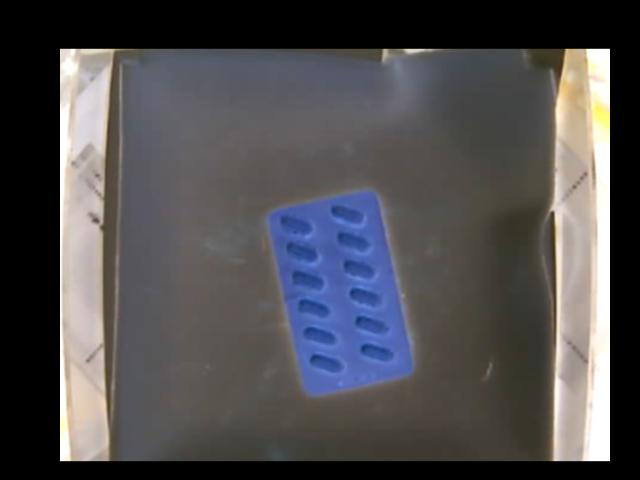Medicine: (266, 187, 414, 398)
